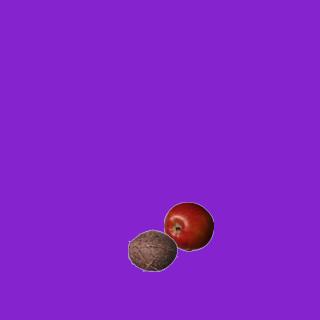Apple Braeburn: (163, 201, 213, 251)
Cocos: (127, 225, 177, 275)
